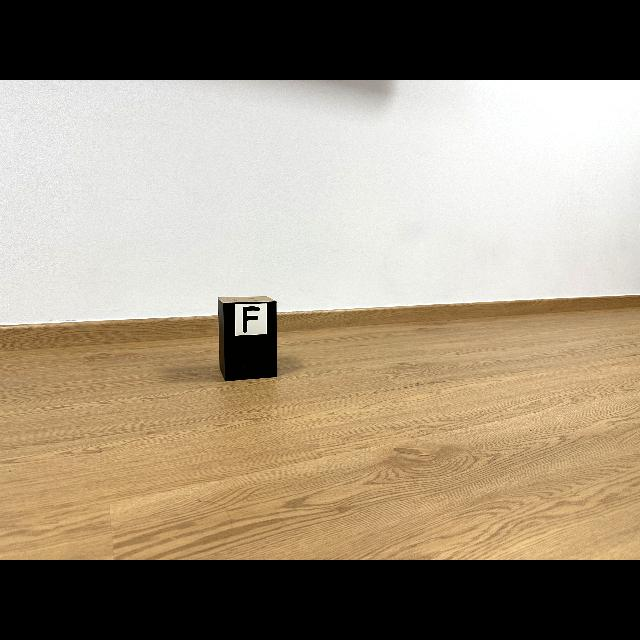F: (242, 306, 260, 332)
